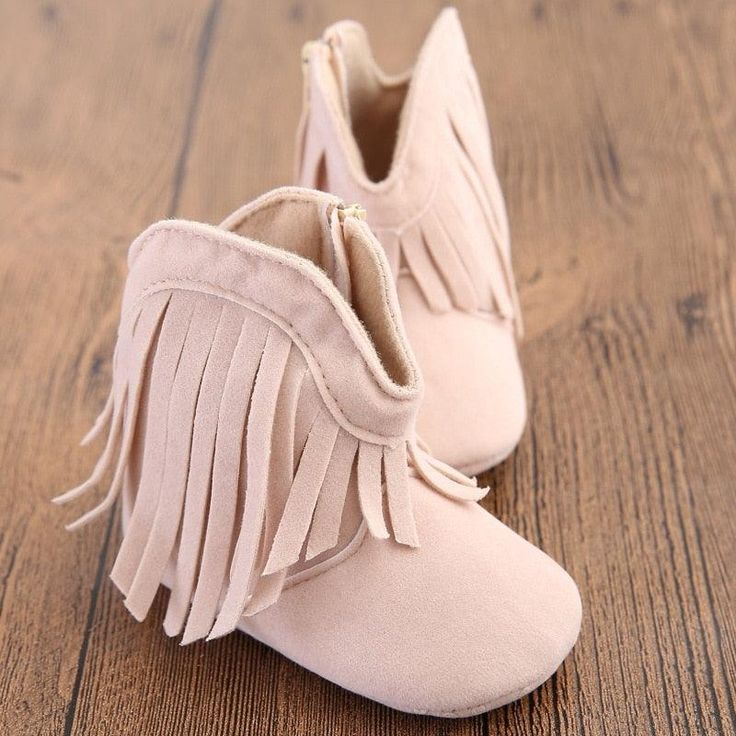gamuza: (55, 7, 582, 718)
